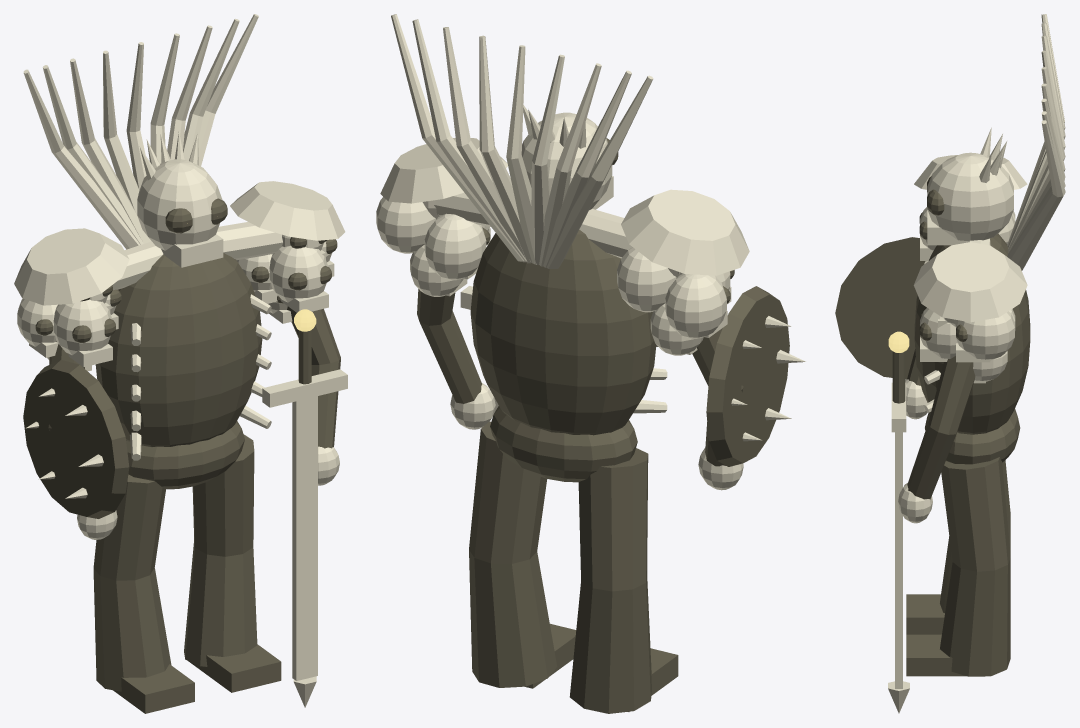
File: ossuary_lord.glb
3 renders of one model, left to right at view 1: azimuth 30°, elevation 25°; view 2: azimuth 150°, elevation 25°; view 3: azimuth 270°, elevation 25°, orthographic. The views are drawn at different scales.
Parts seen in each view (by area): view 1: ossuary_lord_dark, ossuary_lord_bone; view 2: ossuary_lord_dark, ossuary_lord_bone; view 3: ossuary_lord_dark, ossuary_lord_bone, ossuary_lord_glow.
Boxes of the visible parts, x1=… form: ossuary_lord_dark: x1=23, y1=198, x2=340, y2=713; ossuary_lord_bone: x1=14, y1=14, x2=347, y2=707; ossuary_lord_dark: x1=417, y1=138, x2=789, y2=713; ossuary_lord_bone: x1=376, y1=14, x2=805, y2=490; ossuary_lord_dark: x1=835, y1=176, x2=1030, y2=676; ossuary_lord_bone: x1=888, y1=14, x2=1065, y2=713; ossuary_lord_glow: x1=888, y1=331, x2=909, y2=352.
Bounding box in the file's own units: 3.67 × 7 × 2.41.
